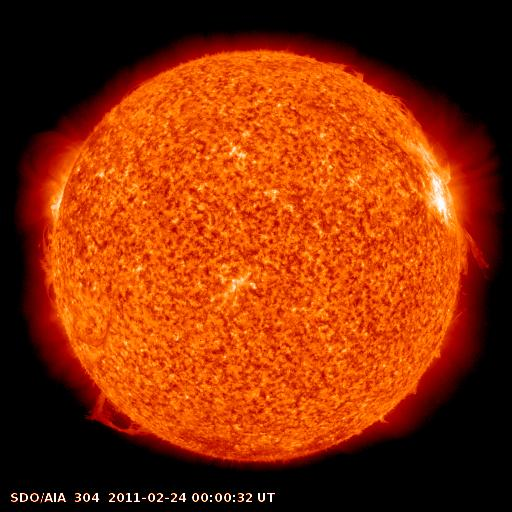prominence: (79, 386, 158, 447), (446, 220, 504, 281), (374, 84, 432, 133), (319, 48, 372, 89), (362, 401, 400, 439), (400, 377, 426, 408), (424, 340, 452, 363)
